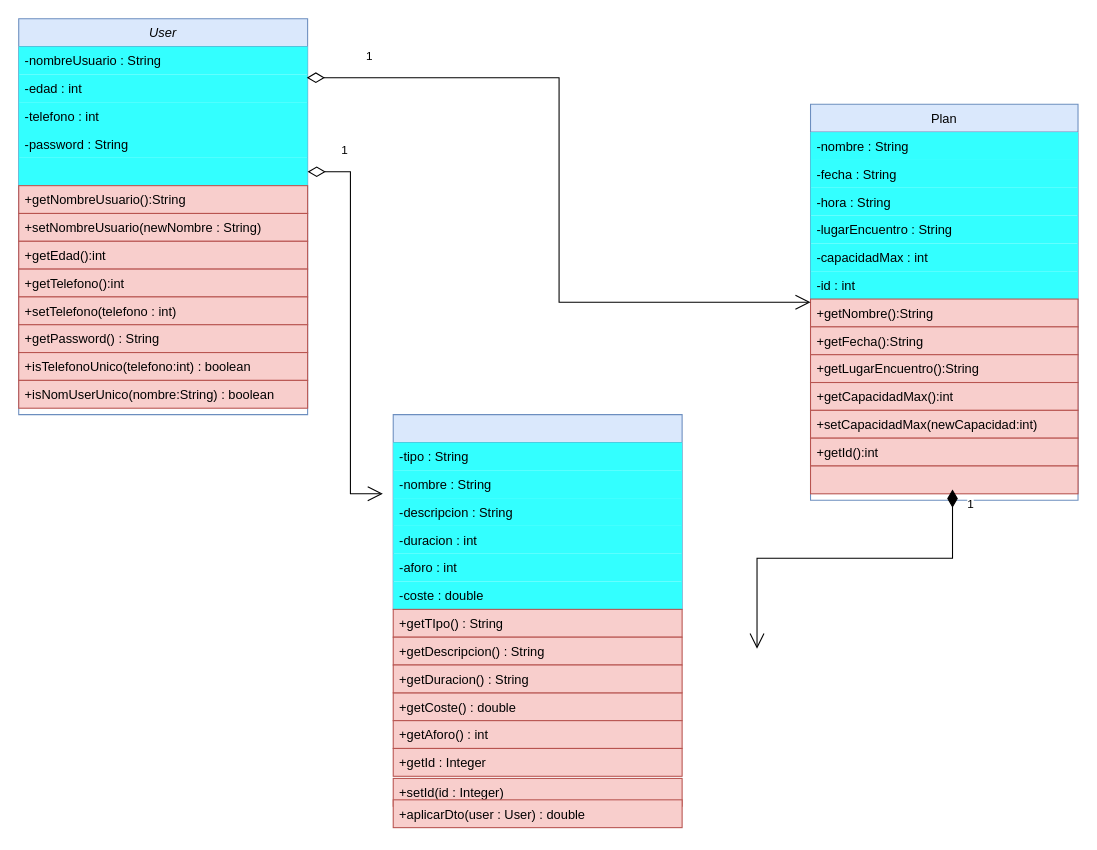
Some shapes in this 1097 by 850 pixel diagram are drawn without their labels. The box of each missing label's shape, as (x1, y1, x2, y2) in pixels:
+setId(id : int): (809, 465, 1078, 494)
-id : Integer: (18, 157, 307, 185)
Actividad: (392, 414, 682, 609)
